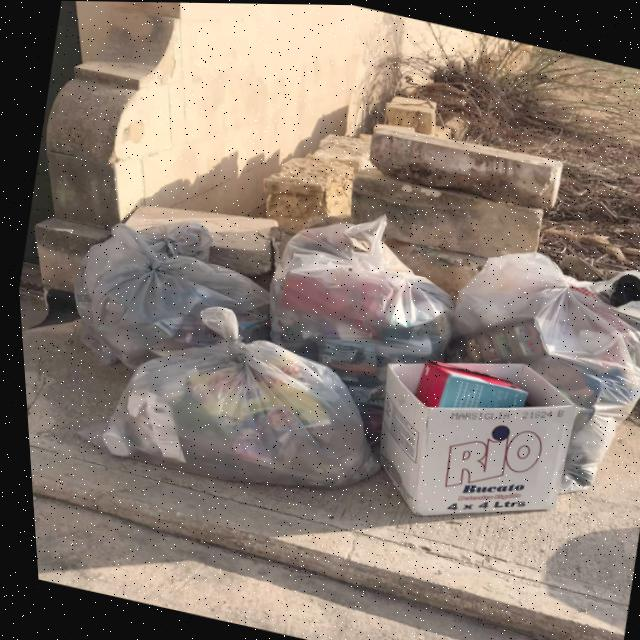Other: (351, 334, 586, 545)
Recycled Waste -Grey or Green Bag-: (57, 278, 406, 516), (234, 194, 475, 460), (417, 233, 640, 510), (49, 197, 285, 399)
